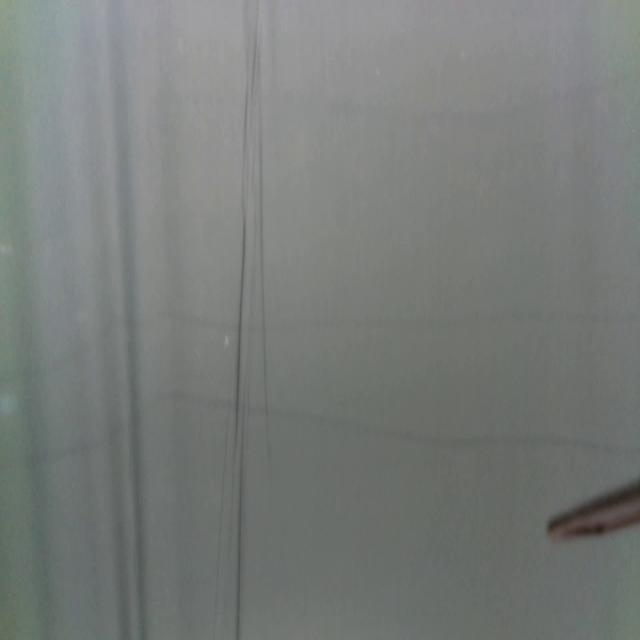color bleeding: (1, 388, 640, 480), (0, 302, 640, 392), (320, 69, 640, 133)
crease: (234, 4, 260, 640), (213, 411, 232, 623)
